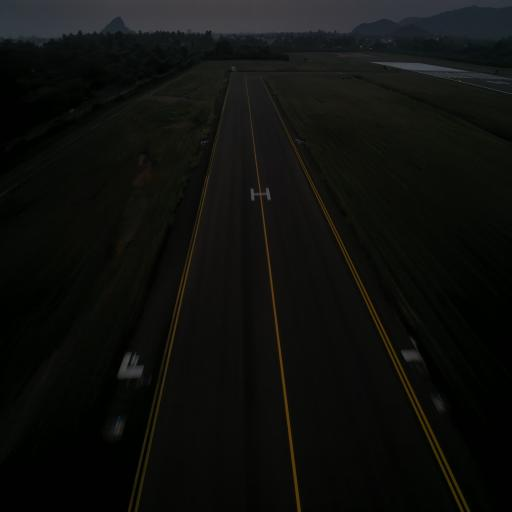on: (113, 412, 124, 432), (435, 391, 445, 411), (203, 138, 206, 146), (298, 137, 300, 146)
